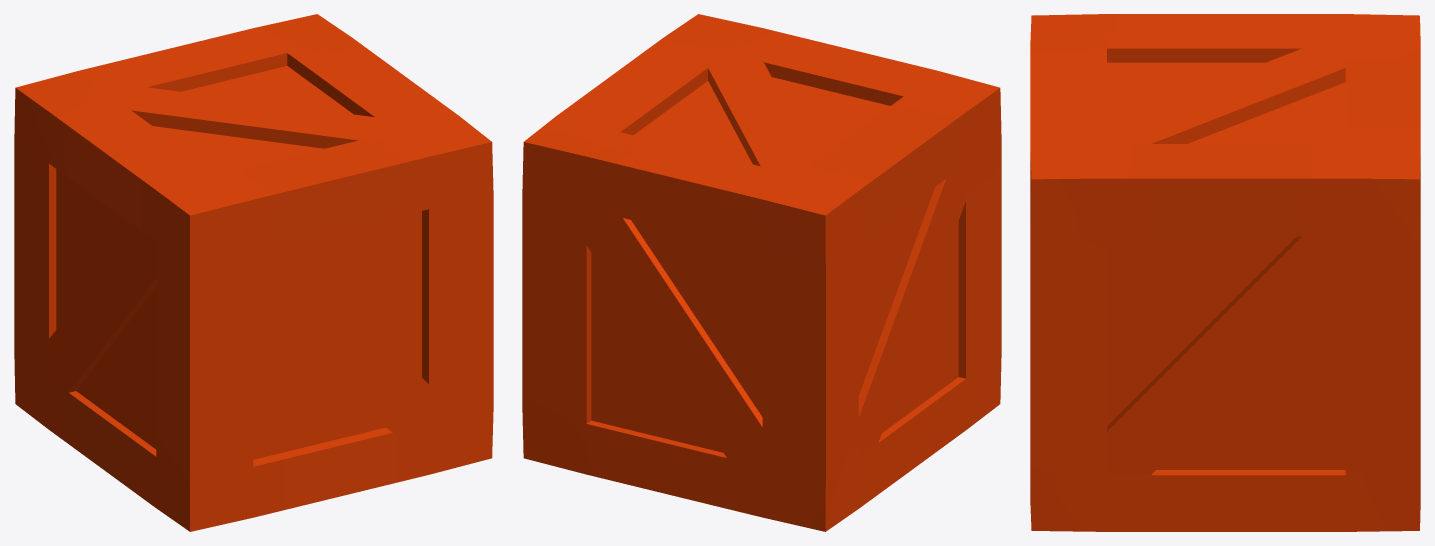
File: Caja.fbx
The picture shows the model from 3 angles, left to right: view 1: azimuth 30°, elevation 25°; view 2: azimuth 150°, elevation 25°; view 3: azimuth 270°, elevation 25°; orthographic projection. The views are drawn at different scales.
Parts seen in each view (by area): view 1: Caja; view 2: Caja; view 3: Caja.
Part boxes in pixels (<box>): Caja: <box>14,14,493,531</box>; Caja: <box>522,14,1001,531</box>; Caja: <box>1030,14,1420,531</box>.
Bounding box in the file's own units: 76.84 × 76.94 × 77.08.
